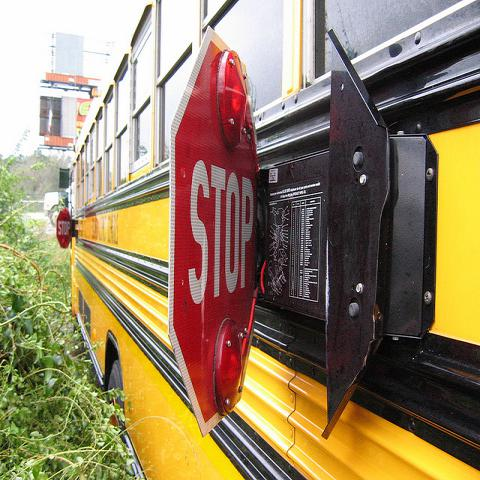bus: (64, 0, 477, 474)
